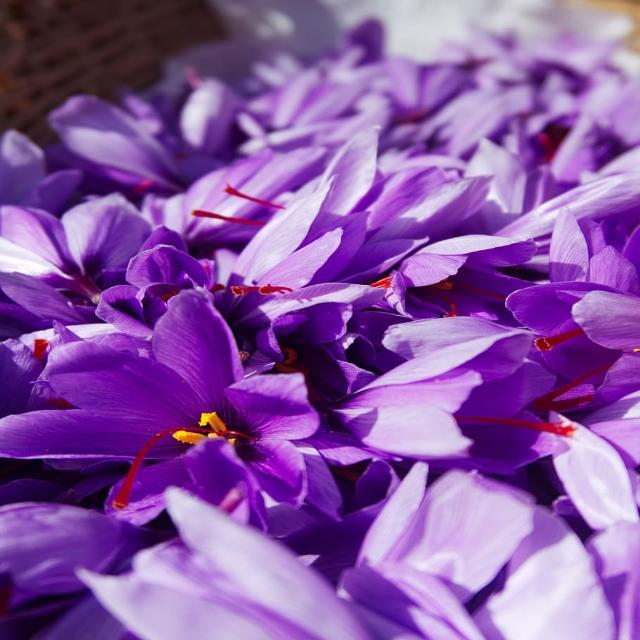Flower: (11, 59, 639, 640), (16, 283, 361, 540)
stigma: (451, 396, 579, 445), (115, 412, 168, 526), (221, 264, 301, 301), (189, 204, 270, 232), (531, 325, 586, 361), (215, 178, 279, 206), (26, 329, 58, 359)
